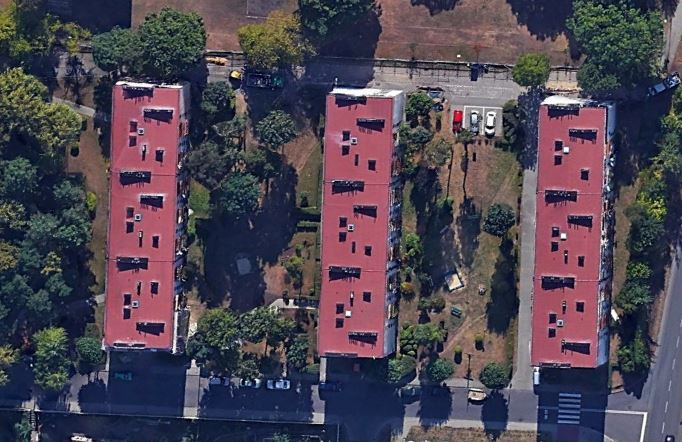block of flats: (309, 85, 409, 364), (525, 93, 623, 373), (99, 74, 195, 356)
